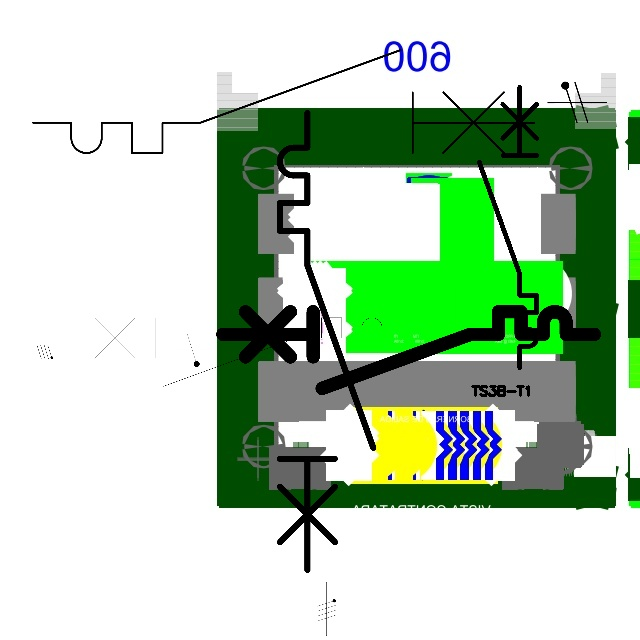interruptor_termomagnetico: (20, 37, 547, 166), (268, 101, 385, 581), (213, 302, 604, 397), (65, 309, 416, 395), (472, 80, 544, 375)
